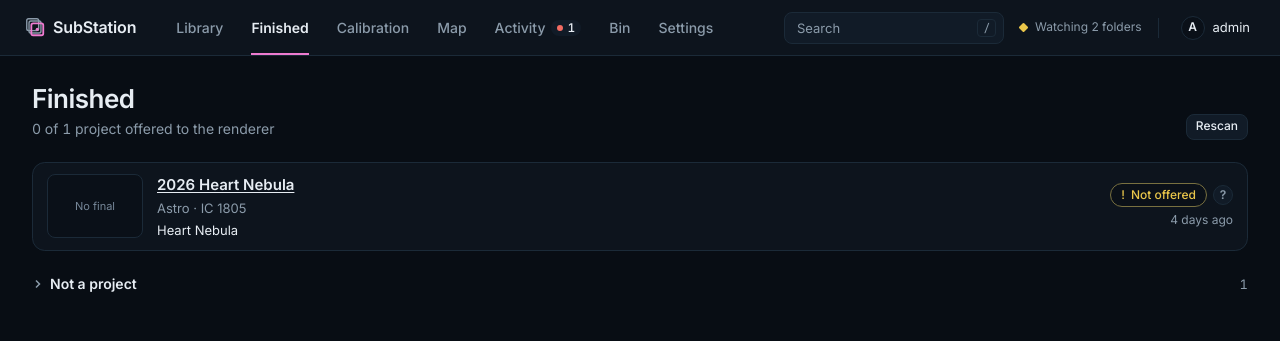
Test: Finished (spec 020) › lists folders that are not projects, with the reason
The image size is (1280, 341).
Step 1. Click the button "Not a project" → (84, 284), box [32, 273, 137, 295]
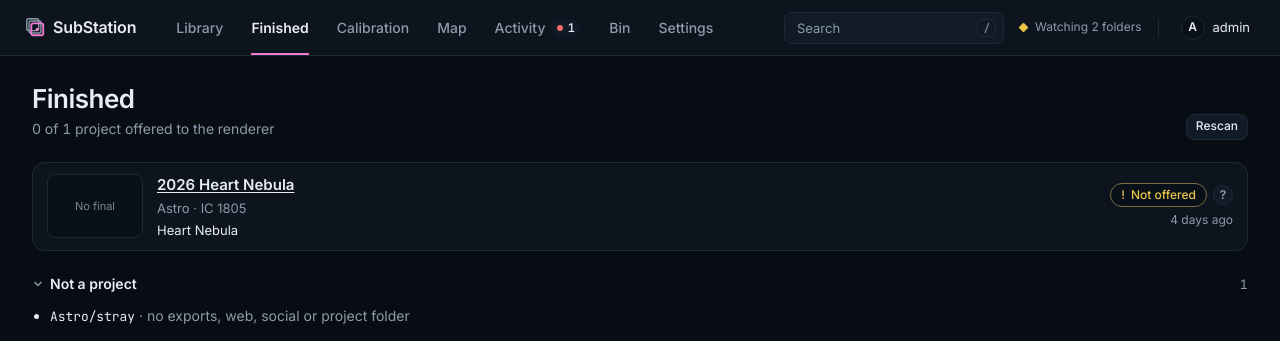
Check: the text "Astro/stray" is shown, box [50, 308, 135, 325]
Check: the text "· no exports, web, social or project folder" is shown, box [139, 307, 410, 324]
